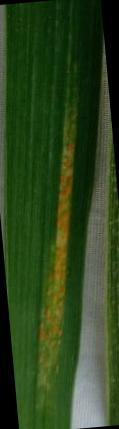Wheat: (36, 133, 70, 398)
